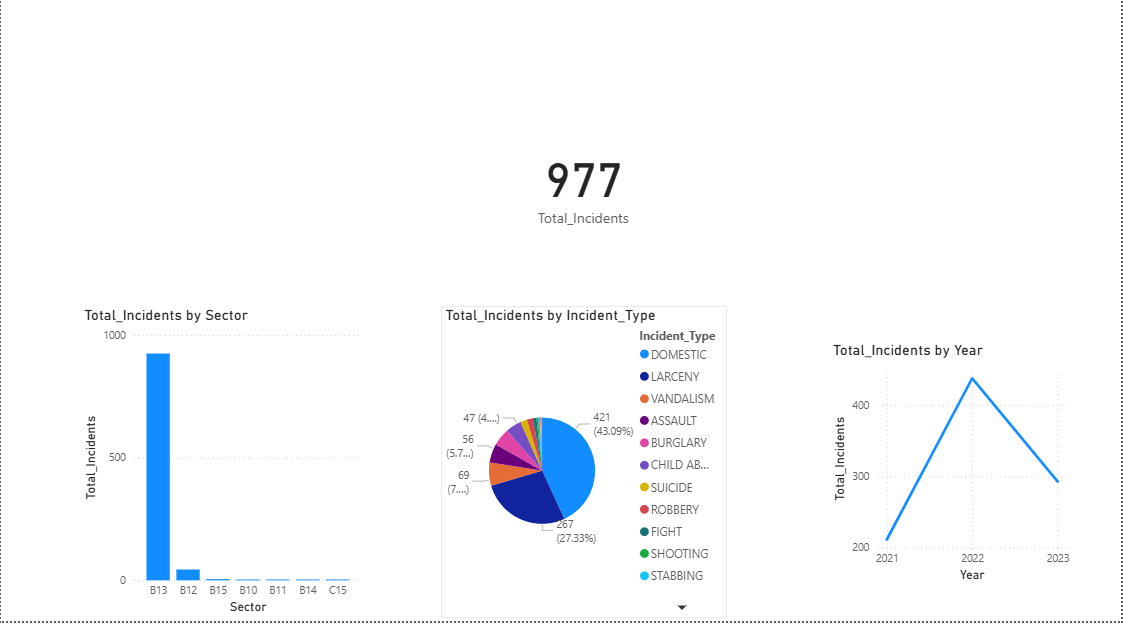

The page's visual inventory and layout, read from the dashboard file:
{"tool":"powerbi","page":{"name":"Page 1","canvas":[1280,720],"ordinal":0},"visuals":[{"type":"card","fields":{"Values":["public_safety_20240318.Total_Incidents"]},"box":[525,80,280,280],"z":0},{"type":"columnChart","fields":{"Category":["public_safety_20240318.Sector"],"Y":["public_safety_20240318.Total_Incidents"]},"box":[90,360,327.5,357.5],"z":1001},{"type":"pieChart","fields":{"Category":["public_safety_20240318.Incident_Type"],"Y":["public_safety_20240318.Total_Incidents"]},"box":[502.5,360,327.5,357.5],"z":1002},{"type":"lineChart","fields":{"Category":["public_safety_20240318.Incident_Date_Time.Variation.Date Hierarchy.Year","public_safety_20240318.Incident_Date_Time.Variation.Date Hierarchy.Quarter","public_safety_20240318.Incident_Date_Time.Variation.Date Hierarchy.Month","public_safety_20240318.Incident_Date_Time.Variation.Date Hierarchy.Day"],"Y":["public_safety_20240318.Total_Incidents"]},"box":[945,400,280,280],"z":1003}]}

Visuals, with their boxes in screenshot pixels (x1, y1, x2, y2), scaled from the page's 1280x720 canvas onto the 1123x624 screenshot:
card - public_safety_20240318.Total_Incidents: x1=461 y1=69 x2=706 y2=312
columnChart - public_safety_20240318.Sector x public_safety_20240318.Total_Incidents: x1=79 y1=312 x2=366 y2=622
pieChart - public_safety_20240318.Incident_Type x public_safety_20240318.Total_Incidents: x1=441 y1=312 x2=728 y2=622
lineChart - public_safety_20240318.Incident_Date_Time.Variation.Date Hierarchy.Year x public_safety_20240318.Incident_Date_Time.Variation.Date Hierarchy.Quarter: x1=829 y1=347 x2=1075 y2=589
